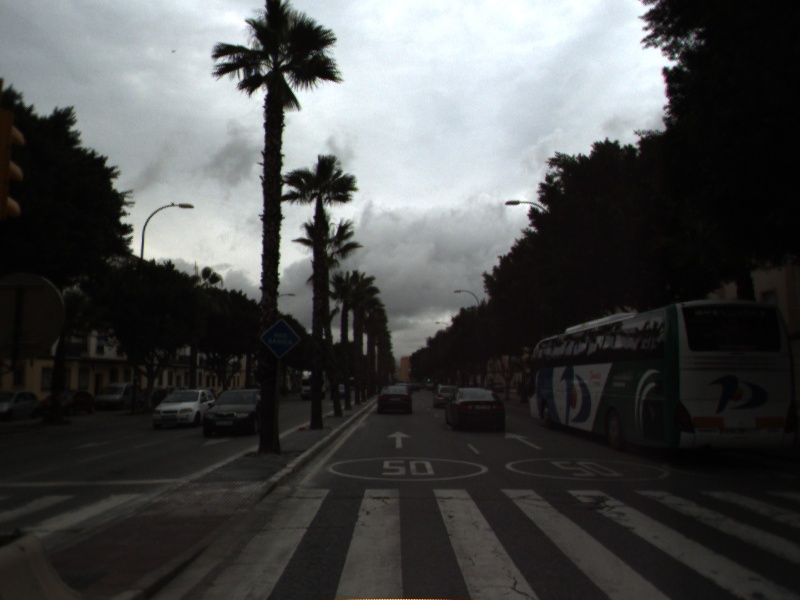STRAIGHT: (503, 430, 545, 452), (385, 429, 414, 450)
